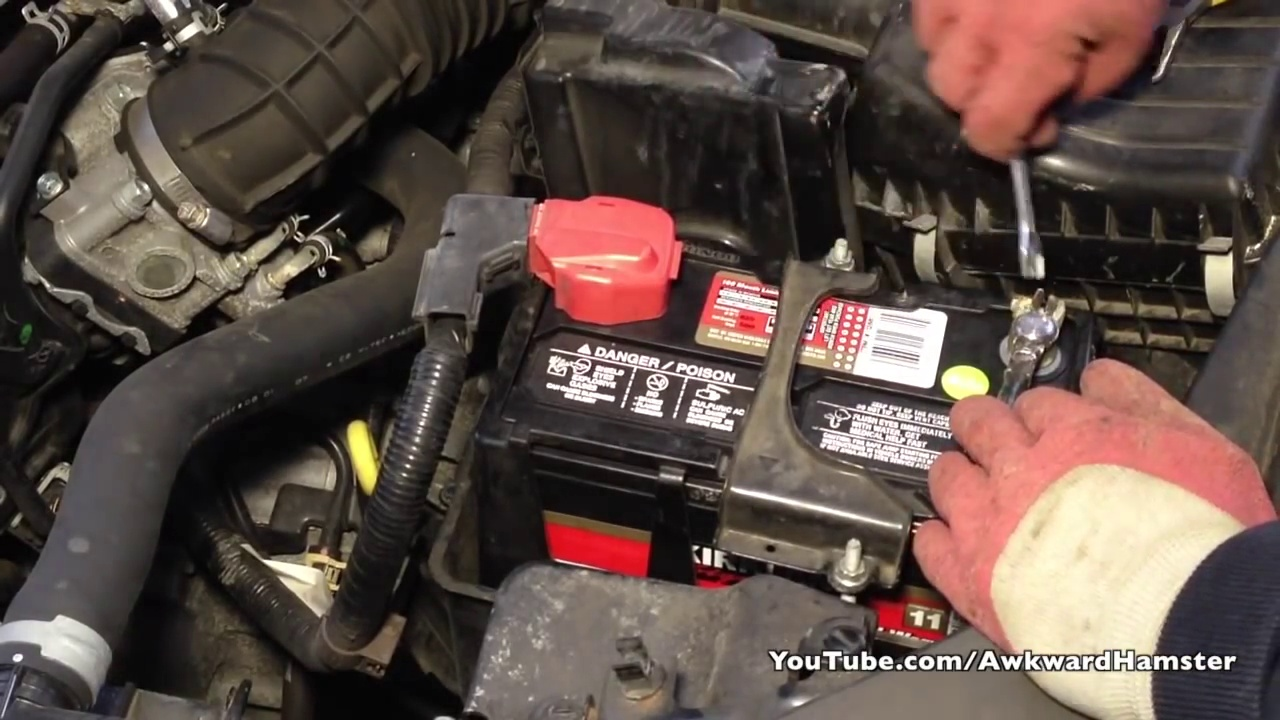battery: (475, 233, 1095, 531)
neg_connected: (990, 275, 1095, 407)
neg_touched: (959, 274, 1121, 476)
pos_connected: (482, 184, 687, 325)
